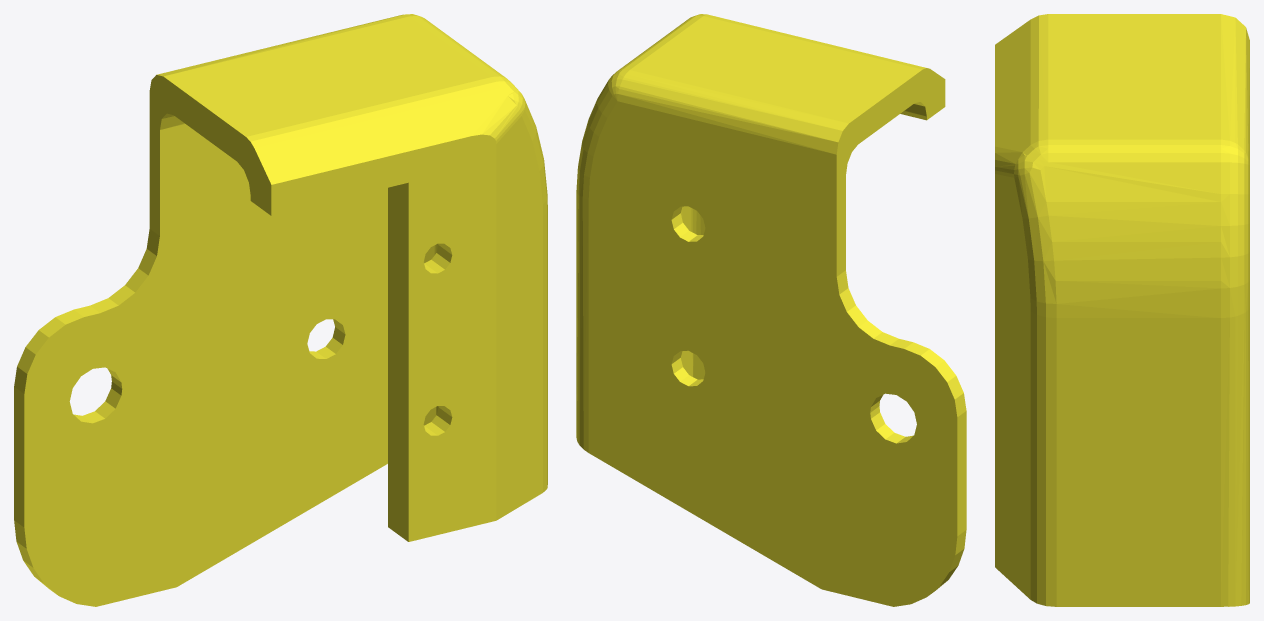
Rendered from lpb1.dae.
3 views of the same model, side by side, from view 1: azimuth 30°, elevation 25°; view 2: azimuth 150°, elevation 25°; view 3: azimuth 270°, elevation 25° (orthographic). The views are drawn at different scales.
Visible parts, largest first — view 1: lpb1; view 2: lpb1; view 3: lpb1.
Part boxes in pixels (left/top/right/bottom): lpb1: left=14, top=14, right=547, bottom=606; lpb1: left=576, top=14, right=966, bottom=606; lpb1: left=995, top=14, right=1249, bottom=606.
Size of the model in its own units: 0.0367 by 0.0177 by 0.0415.
Materials: 1 (1 with a texture image).
